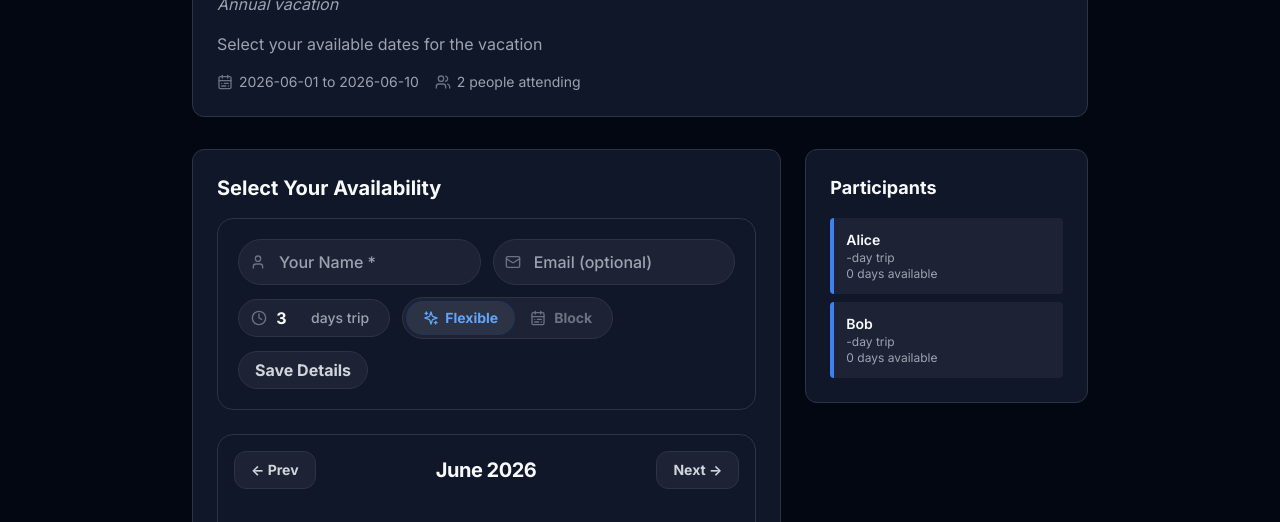
Test case: ParticipantView - Duplicate Name Check › allows submission if name is unique
In the field with placeholder "Your Name *": (359, 262) [238,239,481,285], type "Charlie"
(page scrolled)
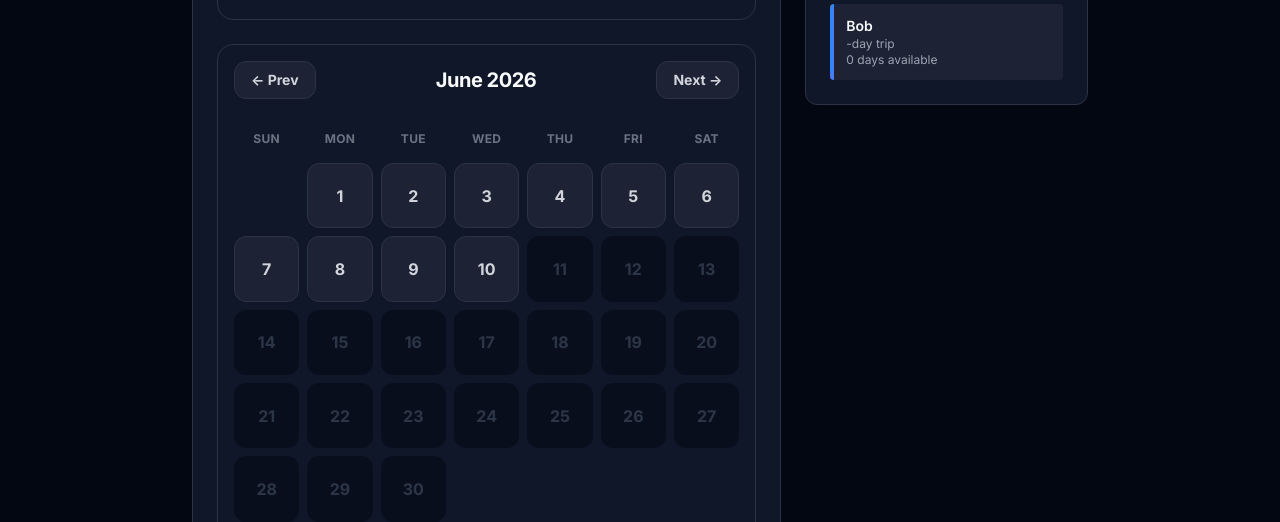
# Select a day
Click the button with test id "day-2026-06-01": (340, 196) [307,163,373,228]
(page scrolled)
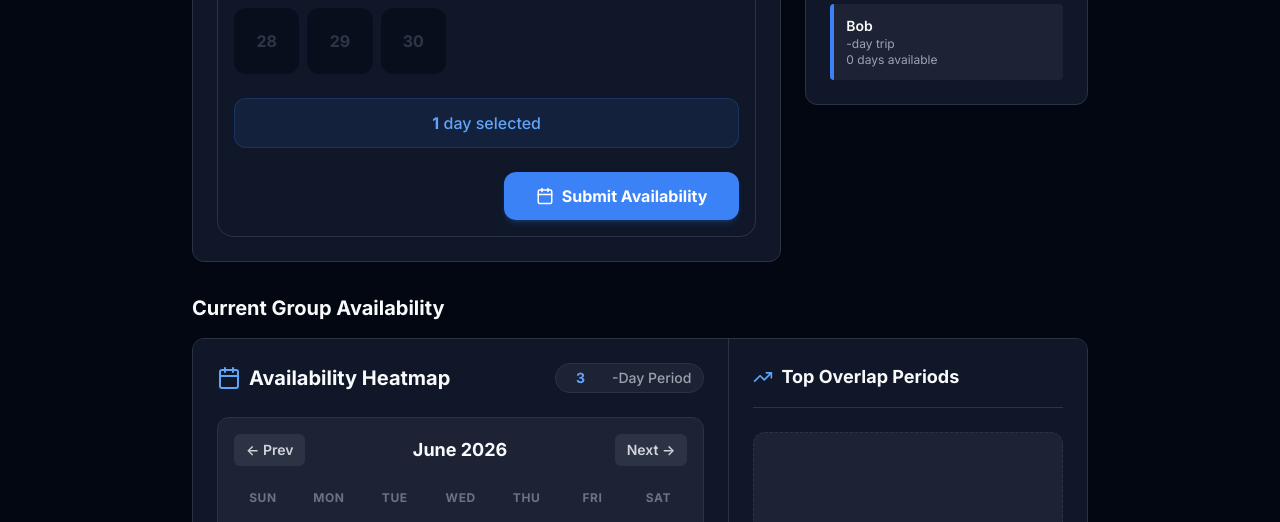
Click the button "Submit Availability": (622, 196) [504,172,739,220]
(page scrolled)
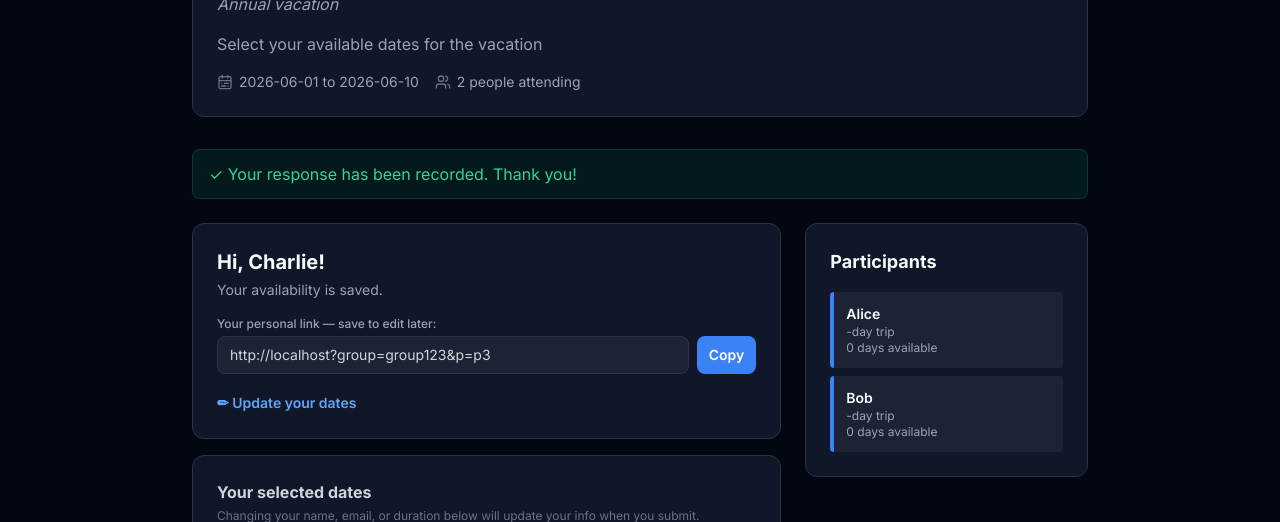
Expected: the text "✓ Your response has been recorded. Thank you!" is shown, [192,149,1088,199]
